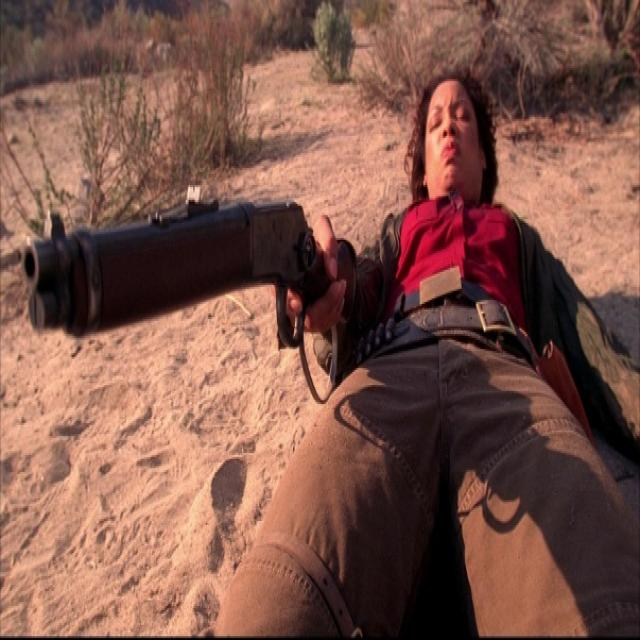rifle: (22, 196, 359, 353)
